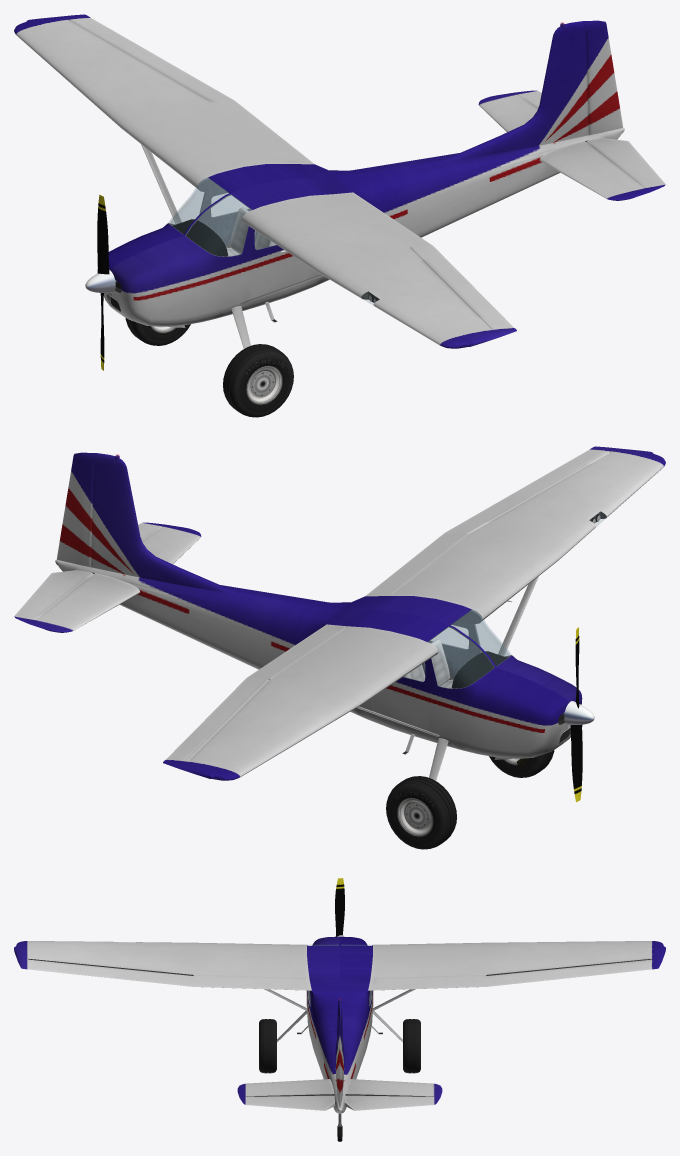
Rendered from airplane.obj.
3 views of the same model, one above another, from view 1: azimuth 30°, elevation 25°; view 2: azimuth 150°, elevation 25°; view 3: azimuth 270°, elevation 25° (orthographic). The views are drawn at different scales.
Visible parts, largest first — view 1: fuselage_fuselage.mesh, ailes_ailes.mesh, ailes2_ailes2.mesh, rouebushG_rouebushG.mesh, vitres_vitres.mesh, direction_direction.mesh, aileronD_aileronD.mesh, porteG_porteG.mesh, aileronG_aileronG.mesh, profondeur_profondeur.mesh, voletD_voletD.mesh, voletG_voletG.mesh (+7 smaller); view 2: fuselage_fuselage.mesh, ailes_ailes.mesh, ailes2_ailes2.mesh, rouebushD_rouebushD.mesh, vitres_vitres.mesh, direction_direction.mesh, aileronG_aileronG.mesh, porteD_porteD.mesh, aileronD_aileronD.mesh, profondeur_profondeur.mesh, voletG_voletG.mesh, voletD_voletD.mesh (+7 smaller); view 3: ailes_ailes.mesh, fuselage_fuselage.mesh, ailes2_ailes2.mesh, profondeur_profondeur.mesh, aileronG_aileronG.mesh, aileronD_aileronD.mesh, voletG_voletG.mesh, voletD_voletD.mesh, rouebushG_rouebushG.mesh, rouebushD_rouebushD.mesh, trous_trous.mesh, helice_helice.mesh (+1 smaller).
Boxes of the visible parts, x1,y1,x2,y2 form: fuselage_fuselage.mesh: [97, 20, 624, 326]; ailes_ailes.mesh: [14, 14, 516, 348]; ailes2_ailes2.mesh: [478, 90, 665, 200]; rouebushG_rouebushG.mesh: [223, 344, 293, 417]; vitres_vitres.mesh: [169, 178, 378, 305]; direction_direction.mesh: [586, 24, 622, 134]; aileronD_aileronD.mesh: [70, 18, 234, 101]; porteG_porteG.mesh: [251, 228, 308, 296]; aileronG_aileronG.mesh: [410, 246, 513, 329]; profondeur_profondeur.mesh: [518, 91, 665, 187]; voletD_voletD.mesh: [211, 100, 310, 161]; voletG_voletG.mesh: [334, 195, 432, 247]; fuselage_fuselage.mesh: [55, 452, 582, 758]; ailes_ailes.mesh: [163, 446, 665, 780]; ailes2_ailes2.mesh: [14, 522, 201, 632]; rouebushD_rouebushD.mesh: [386, 776, 456, 849]; vitres_vitres.mesh: [429, 512, 605, 688]; direction_direction.mesh: [57, 456, 93, 566]; aileronG_aileronG.mesh: [445, 450, 609, 533]; porteD_porteD.mesh: [371, 660, 428, 728]; aileronD_aileronD.mesh: [166, 678, 269, 761]; profondeur_profondeur.mesh: [14, 523, 161, 619]; voletG_voletG.mesh: [369, 532, 468, 593]; voletD_voletD.mesh: [247, 627, 345, 679]; ailes_ailes.mesh: [14, 941, 665, 990]; fuselage_fuselage.mesh: [306, 936, 373, 1113]; ailes2_ailes2.mesh: [237, 1079, 442, 1104]; profondeur_profondeur.mesh: [245, 1095, 434, 1110]; aileronG_aileronG.mesh: [28, 959, 193, 986]; aileronD_aileronD.mesh: [486, 959, 651, 986]; voletG_voletG.mesh: [193, 975, 305, 990]; voletD_voletD.mesh: [374, 975, 486, 990]; rouebushG_rouebushG.mesh: [259, 1019, 276, 1073]; rouebushD_rouebushD.mesh: [403, 1019, 420, 1073]; trous_trous.mesh: [28, 958, 651, 1096]; helice_helice.mesh: [335, 878, 344, 936].
Bounding box in the file's own units: 7.84 × 3.66 × 10.87.
